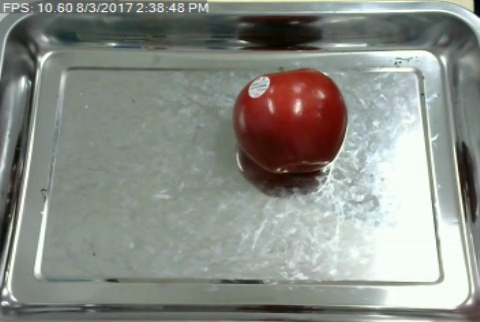Apple: (227, 64, 351, 177)
